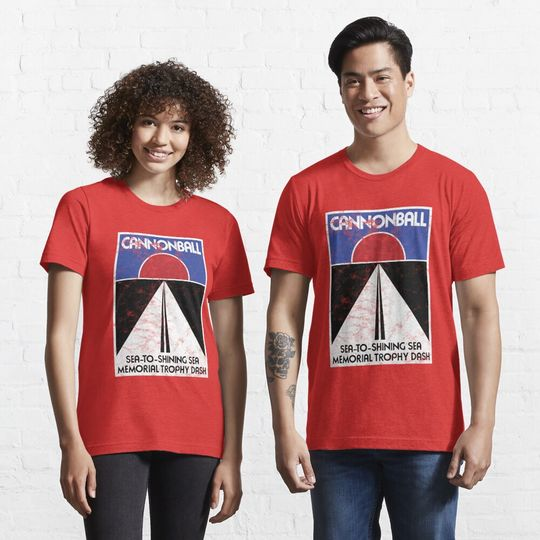design: (322, 203, 435, 369), (109, 228, 210, 380)
